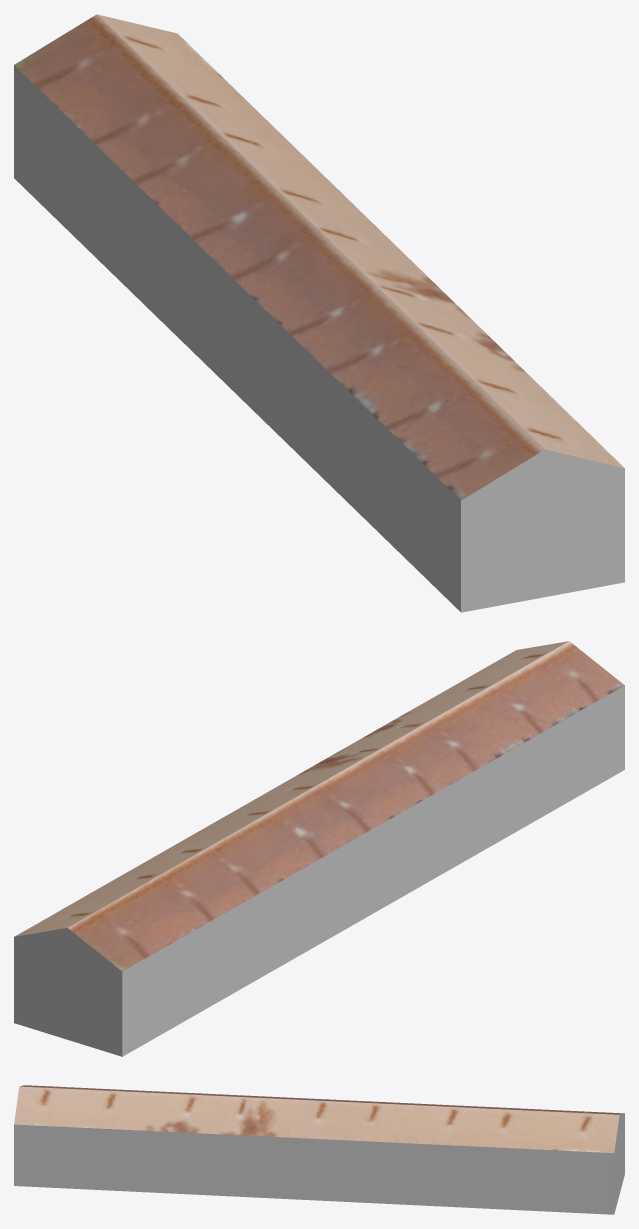
Rendered from DEBW_0010007Txak.gltf.
3 renders of one model, top to bottom at view 1: azimuth 30°, elevation 25°; view 2: azimuth 150°, elevation 25°; view 3: azimuth 270°, elevation 25°, orthographic. The views are drawn at different scales.
Parts seen in each view (by area): view 1: Z_UP; view 2: Z_UP; view 3: Z_UP.
Boxes of the visible parts, x1=… form: Z_UP: x1=14, y1=14, x2=624, y2=612; Z_UP: x1=14, y1=641, x2=624, y2=1056; Z_UP: x1=14, y1=1085, x2=624, y2=1214.
Bounding box in the file's own units: 15.45 × 8.32 × 57.55.
2 materials, 1 textured.
